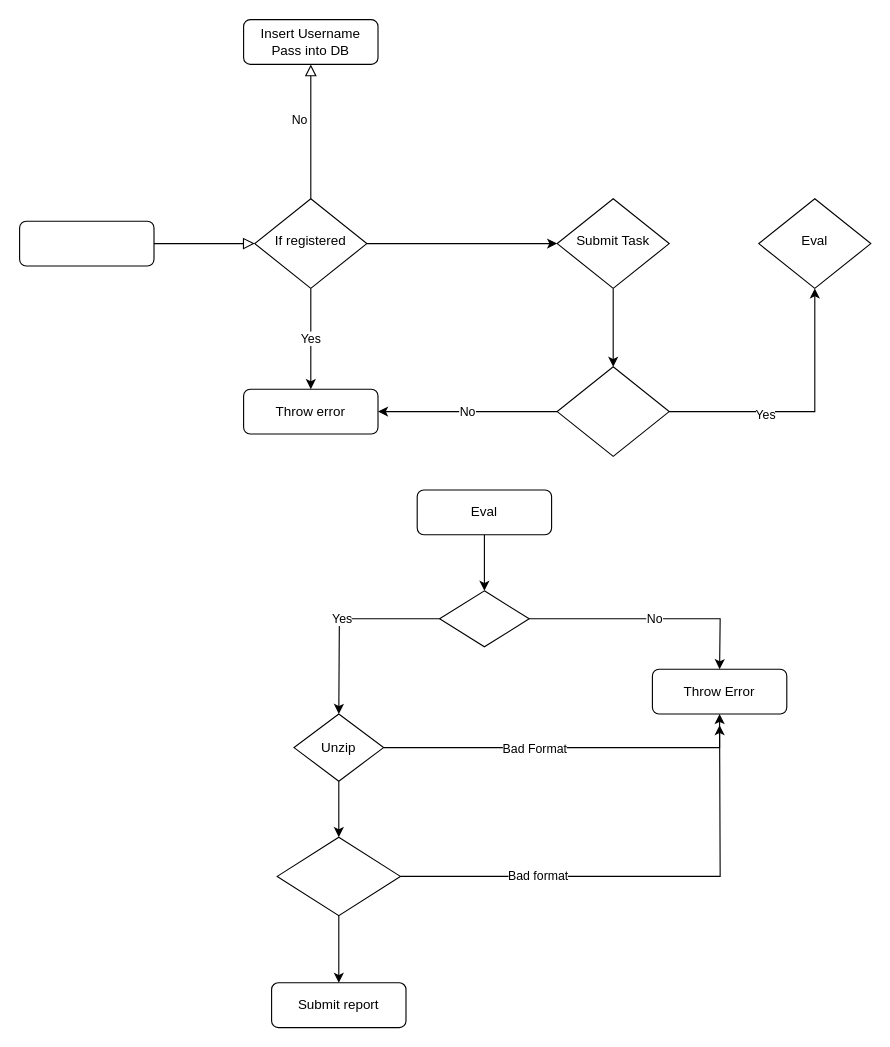
Some shapes in this 890 by 1047 pixel diagram are drawn without their labels. Here are the shapes that lost their labels. From the top down, the centre of each, then its label:
At [86,243]: "Register".
At [612,411]: "Query Username".
At [483,618]: "Url retrieve".
At [338,876]: "Run eval on file".
